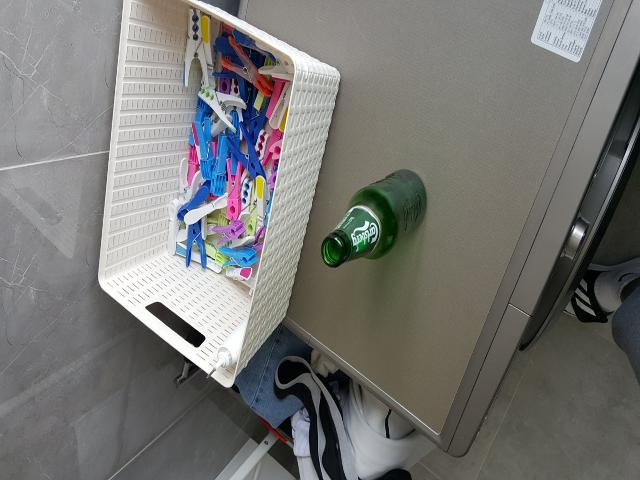beer: (323, 171, 428, 268)
